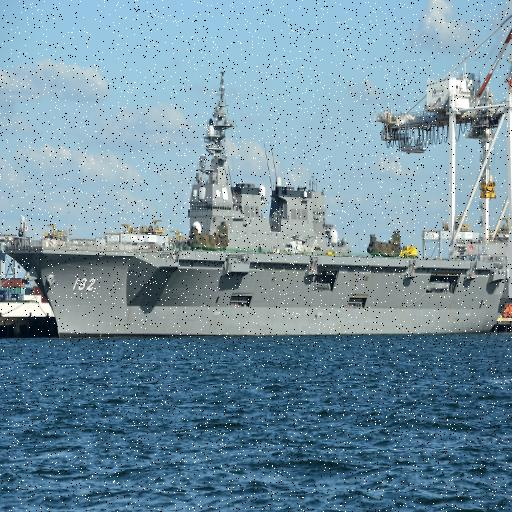Portanaves: (1, 66, 512, 350)
